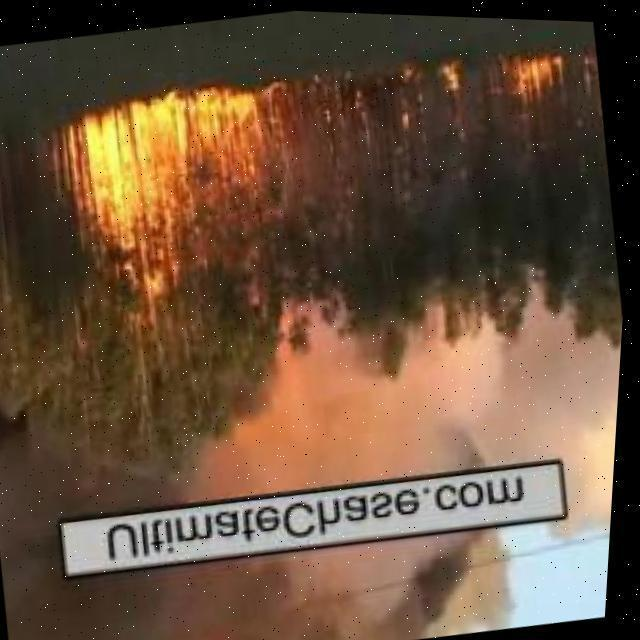fire: (51, 75, 301, 297), (509, 42, 575, 100), (432, 58, 474, 101)
